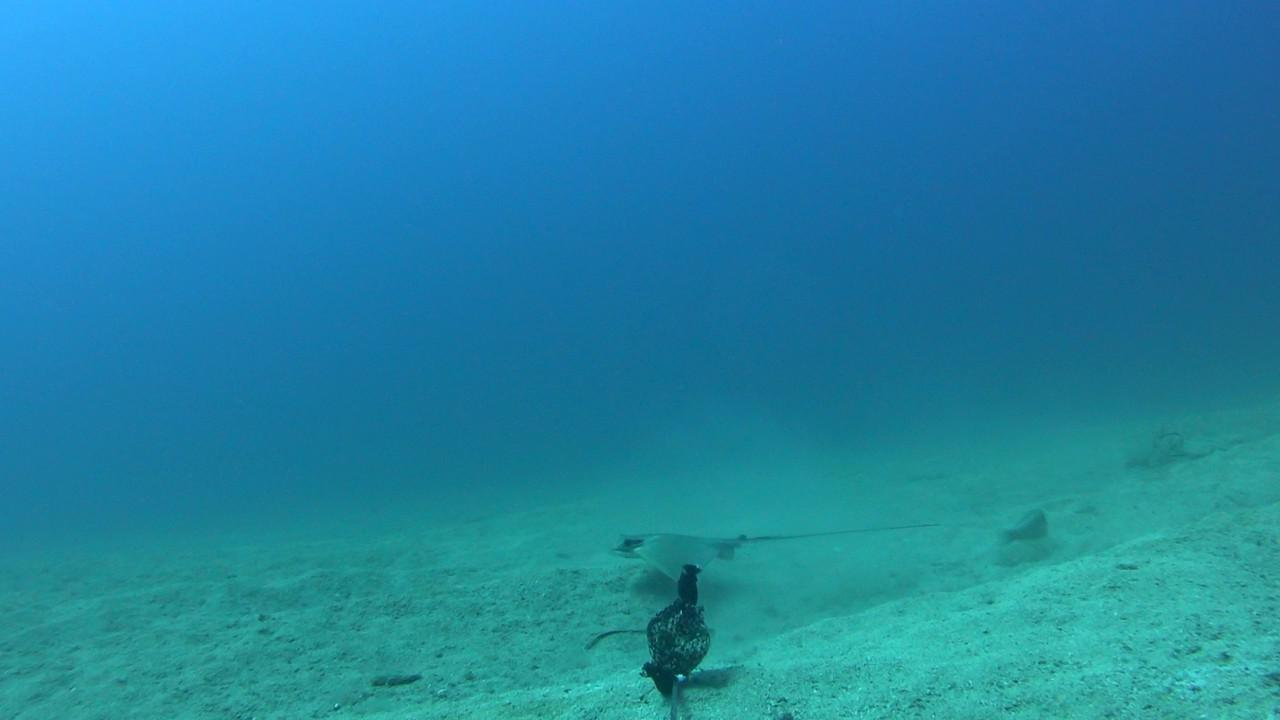myliobatis: (581, 512, 956, 578)
raor: (994, 507, 1052, 546)
